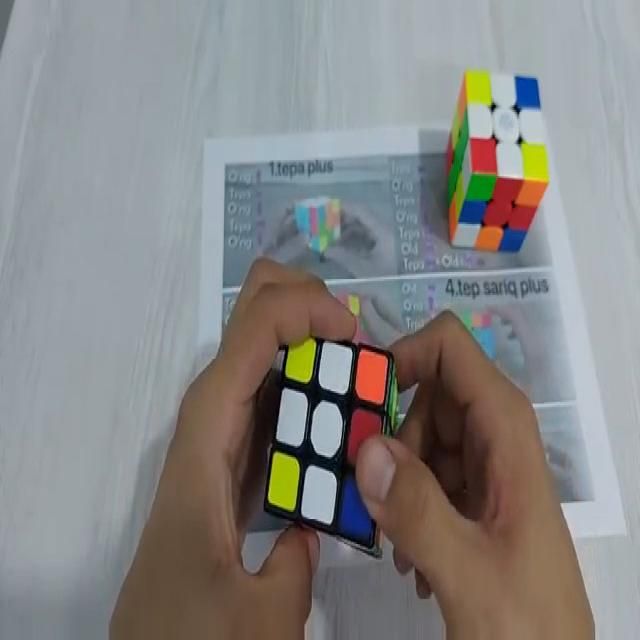Rub: (262, 328, 398, 553), (446, 70, 548, 253)
